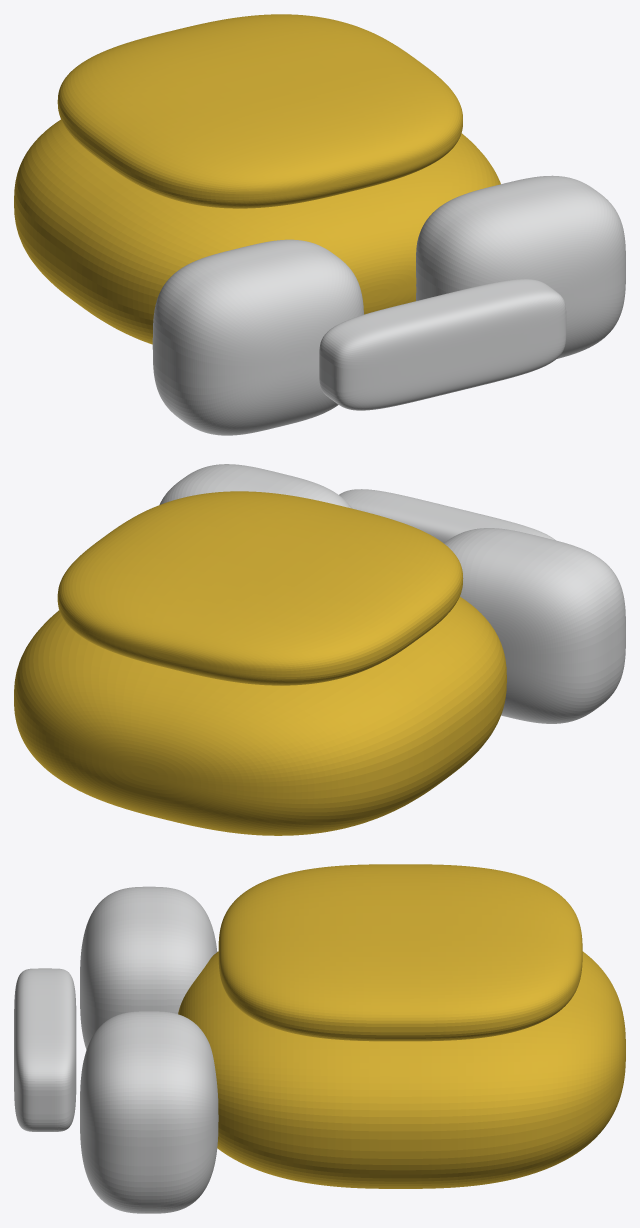
File: twin_bell_alarm_clock_sq.glb
3 views of the same model, one above another, from view 1: azimuth 30°, elevation 25°; view 2: azimuth 150°, elevation 25°; view 3: azimuth 270°, elevation 25° (orthographic). The views are drawn at different scales.
Visible parts, largest first — view 1: superquadric_1, superquadric_0, superquadric_2, superquadric_3, superquadric_4; view 2: superquadric_0, superquadric_1, superquadric_2, superquadric_4, superquadric_3; view 3: superquadric_0, superquadric_1, superquadric_3, superquadric_2, superquadric_4.
Boxes of the visible parts, left/top/right/bottom form: superquadric_1: left=57, top=14, right=462, bottom=208; superquadric_0: left=14, top=119, right=500, bottom=344; superquadric_2: left=152, top=239, right=363, bottom=435; superquadric_3: left=416, top=175, right=625, bottom=358; superquadric_4: left=319, top=279, right=566, bottom=410; superquadric_0: left=14, top=596, right=506, bottom=835; superquadric_1: left=57, top=491, right=463, bottom=685; superquadric_2: left=444, top=528, right=625, bottom=723; superquadric_4: left=339, top=489, right=555, bottom=543; superquadric_3: left=159, top=464, right=351, bottom=508; superquadric_0: left=178, top=951, right=625, bottom=1188; superquadric_1: left=218, top=864, right=582, bottom=1041; superquadric_3: left=80, top=1011, right=218, bottom=1213; superquadric_2: left=80, top=886, right=217, bottom=1049; superquadric_4: left=14, top=968, right=76, bottom=1131.
Size of the model in its own units: 0.8214 by 0.3881 by 1.
